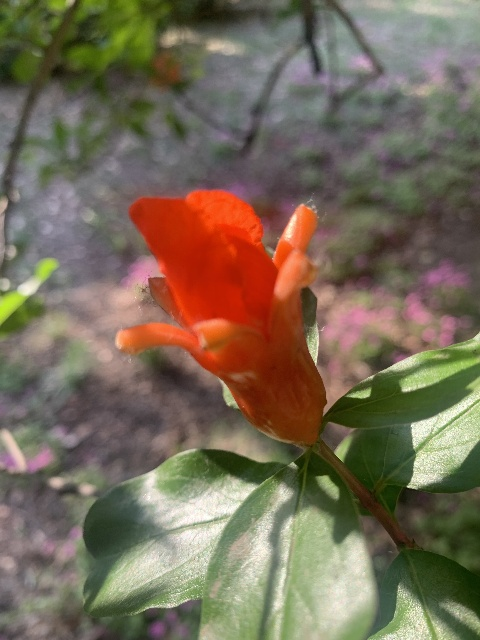flower: (116, 187, 326, 446)
